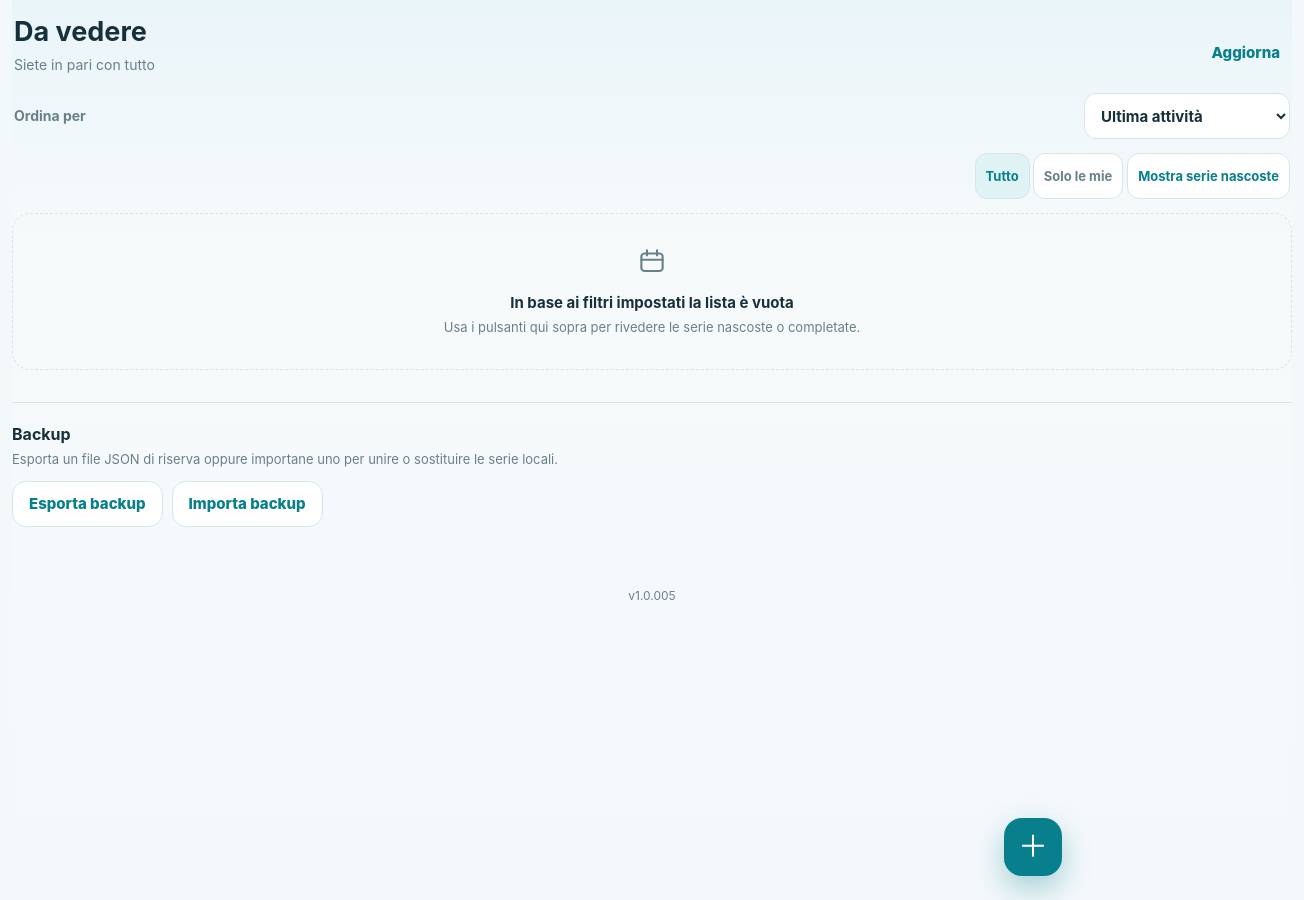
HomeView — serie nascoste (criteri 7, 8, 10, 11) › una serie nascosta e completata compare solo con entrambi i filtri accesi (§5)
Click the button with class "hidden-toggle": (1209, 176) [1127, 153, 1290, 199]
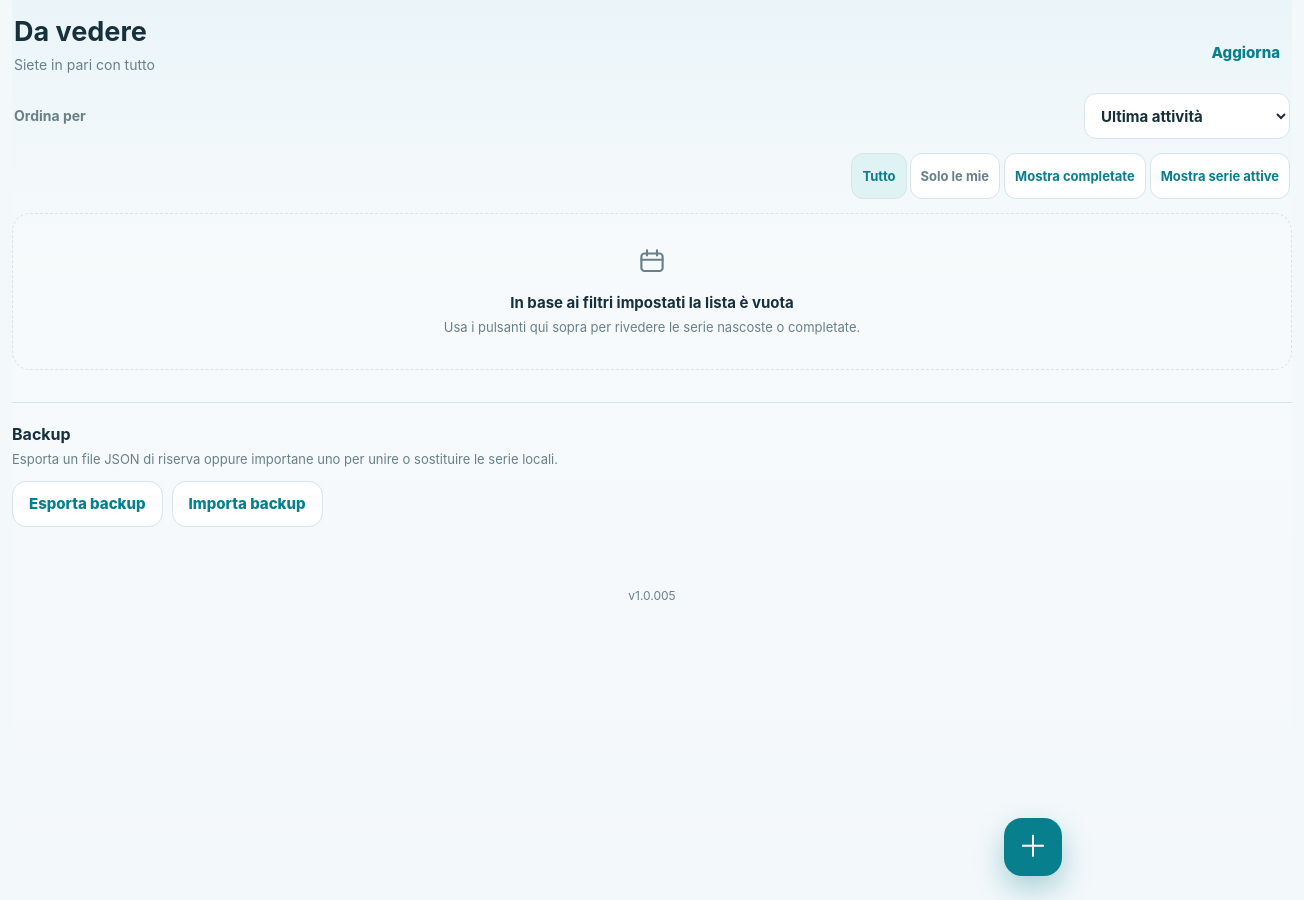
Expected: the button with class "completed-toggle" is shown
Click the button with class "completed-toggle": (1075, 176) [1004, 153, 1146, 199]
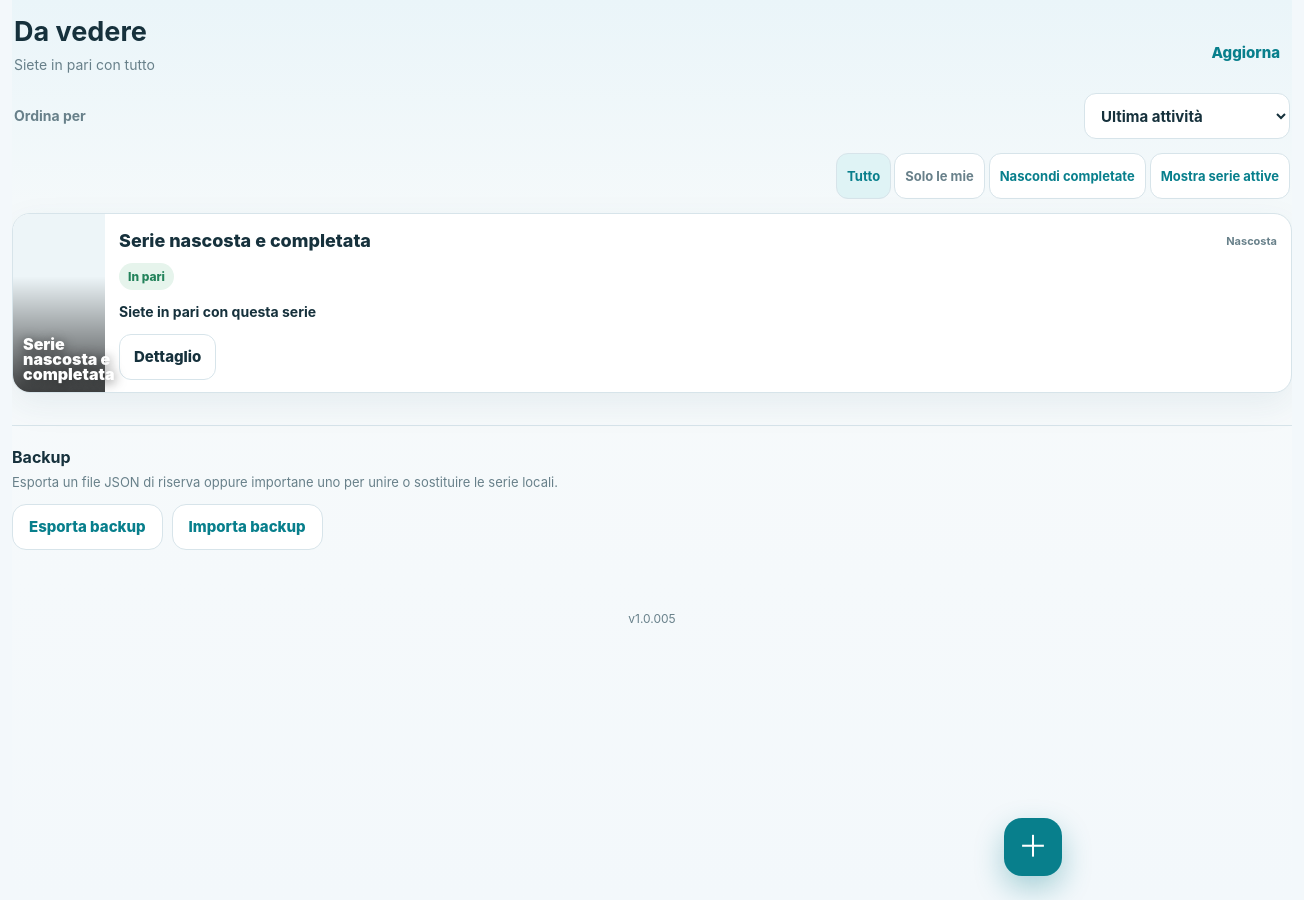
Expected: the number of elements with class "show" is 1, [12, 213, 1292, 393]
